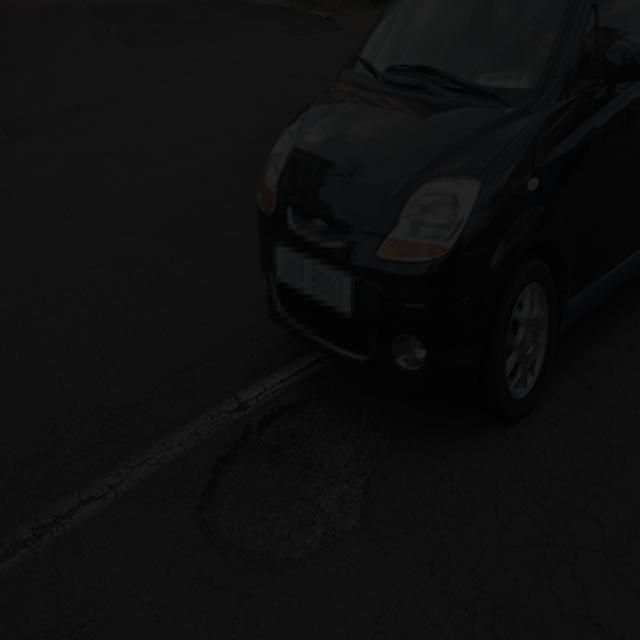pothole: (196, 376, 398, 584)
